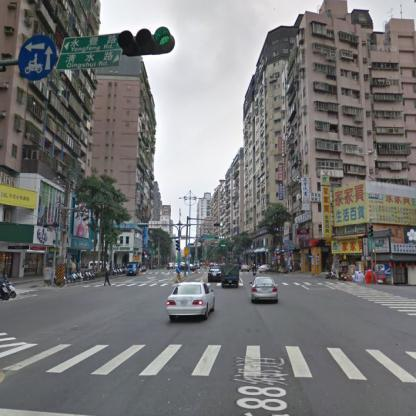Green Light: (120, 31, 175, 49)
